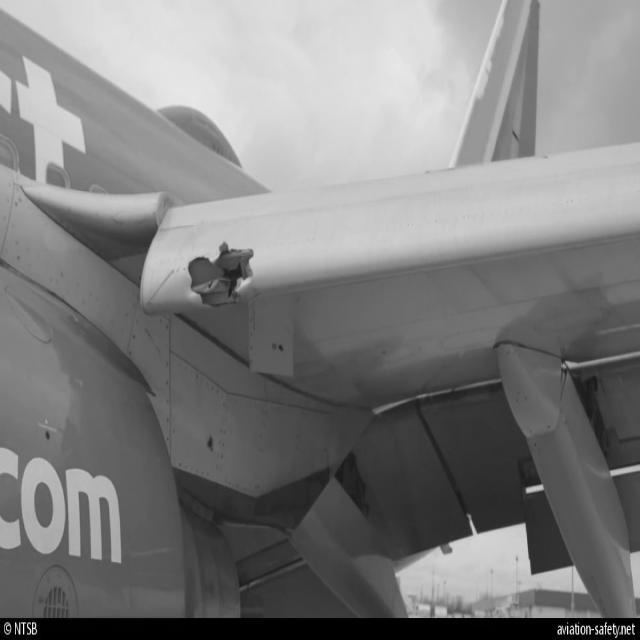crack: (191, 244, 259, 308)
